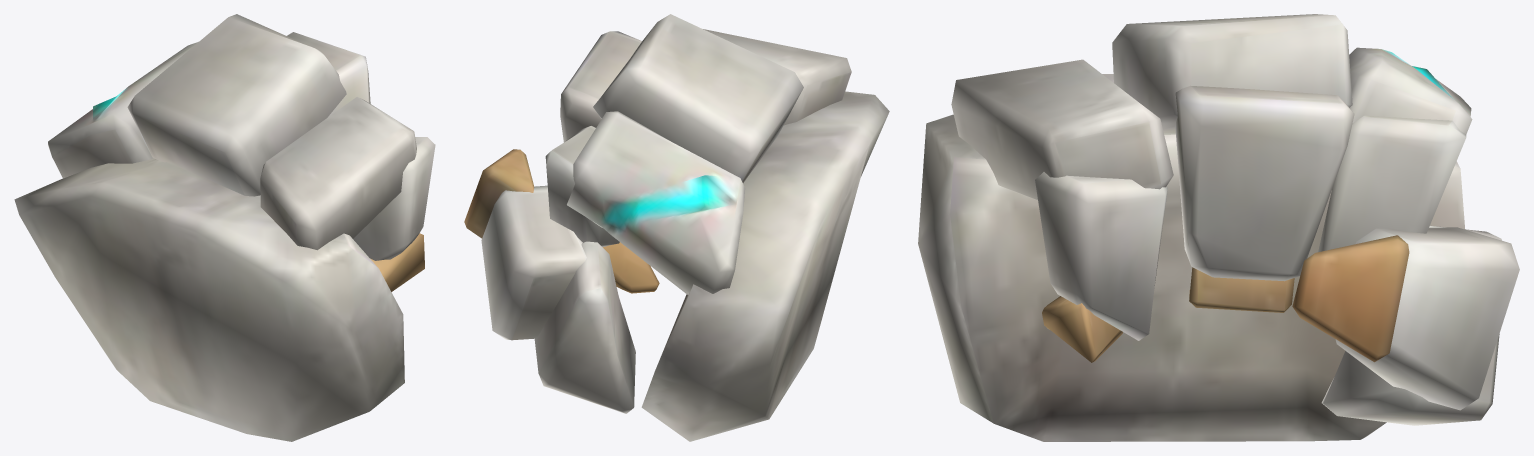
The picture shows the model from 3 angles, left to right: view 1: azimuth 30°, elevation 25°; view 2: azimuth 150°, elevation 25°; view 3: azimuth 270°, elevation 25°; orthographic projection. The views are drawn at different scales.
Visible parts, largest first — view 1: SM_VaultGuardian_ArmThrow_Projectile_LOD0; view 2: SM_VaultGuardian_ArmThrow_Projectile_LOD0; view 3: SM_VaultGuardian_ArmThrow_Projectile_LOD0.
Part boxes in pixels (x1,y1,x2,y2): SM_VaultGuardian_ArmThrow_Projectile_LOD0: (14,14,435,441); SM_VaultGuardian_ArmThrow_Projectile_LOD0: (464,14,889,441); SM_VaultGuardian_ArmThrow_Projectile_LOD0: (918,14,1519,441).
Bounding box in the file's own units: 0.3085 × 0.3084 × 0.3597.
Materials: 1 (1 with a texture image).
